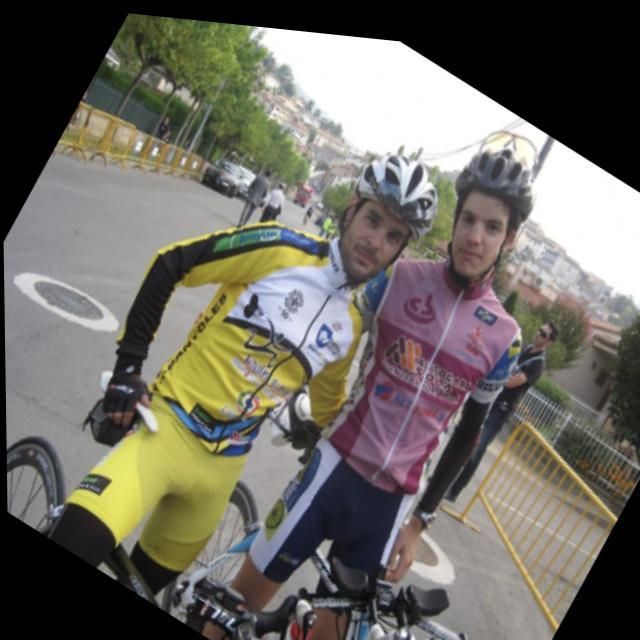Helmet: (443, 119, 548, 288), (324, 147, 440, 282)
